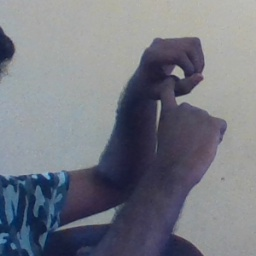Q: (129, 31, 230, 160)
